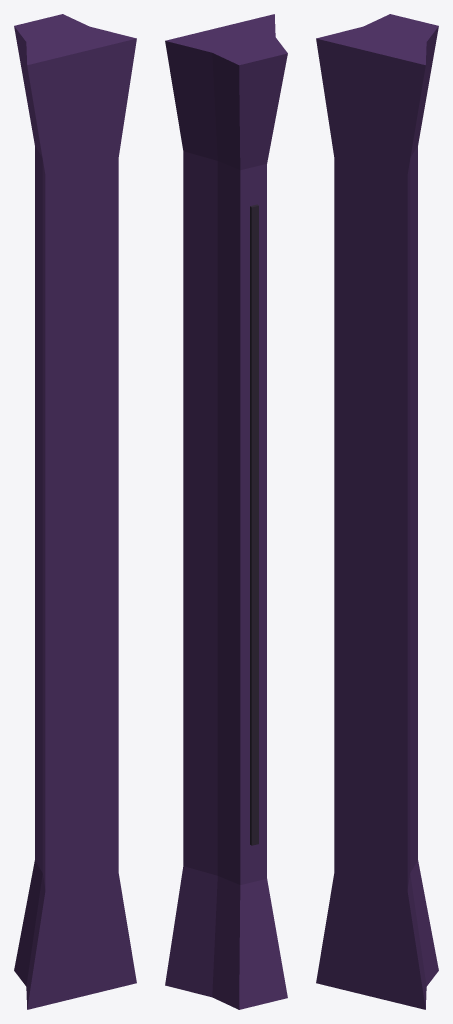
Rendered from SM_SB_Kit_AlienWindowMullion_620.fbx.
3 views of the same model, side by side, from view 1: azimuth 30°, elevation 25°; view 2: azimuth 210°, elevation 25°; view 3: azimuth 330°, elevation 25° (orthographic).
Visible parts, largest first — view 1: SM_SB_Kit_AlienWindowMullion_620; view 2: SM_SB_Kit_AlienWindowMullion_620; view 3: SM_SB_Kit_AlienWindowMullion_620.
Part boxes in pixels (x1,y1,x2,y2): SM_SB_Kit_AlienWindowMullion_620: [14, 14, 136, 1009]; SM_SB_Kit_AlienWindowMullion_620: [165, 14, 287, 1009]; SM_SB_Kit_AlienWindowMullion_620: [316, 14, 438, 1009].
Size of the model in its own units: 90 by 62 by 740.
